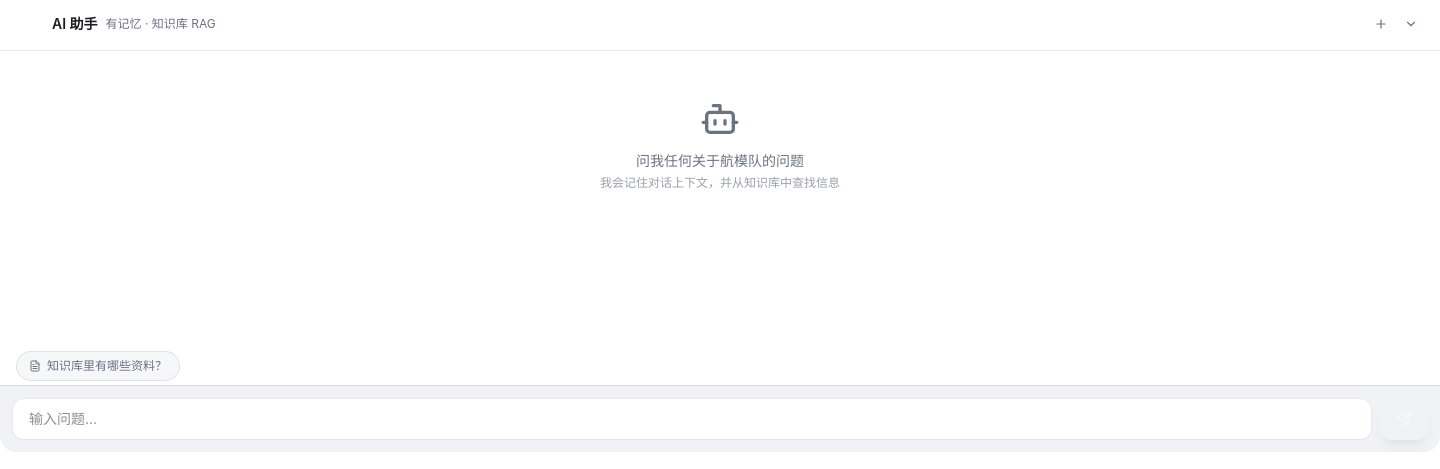
聊天页建议问题 › 点 chip 的行为不变：填进输入框（不直接发送）
Click the button with test id "ai-suggestion" at (98, 366), box [16,351,180,381]
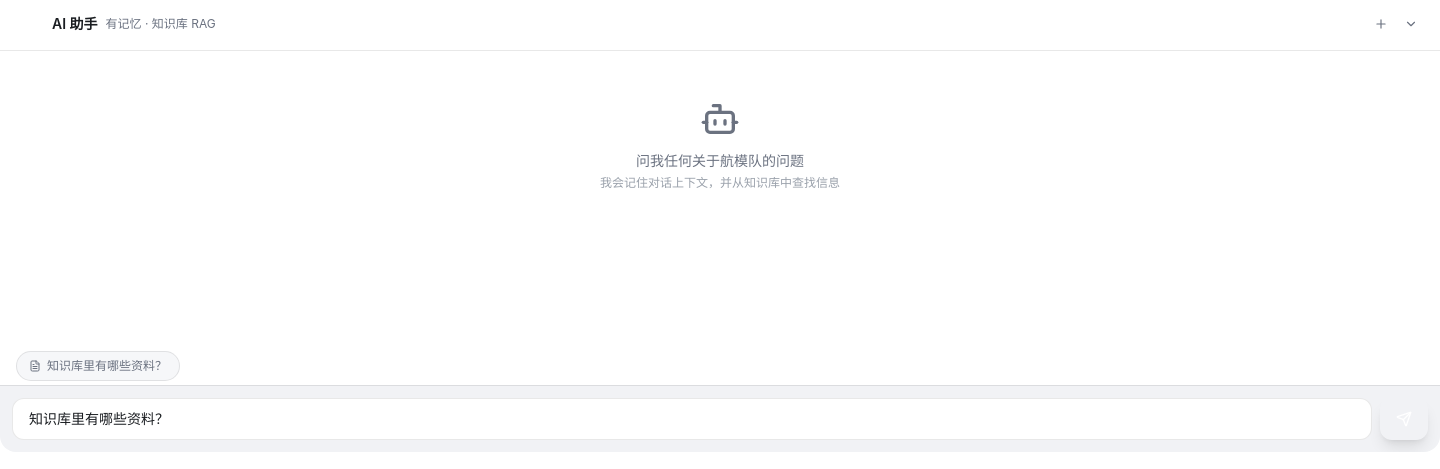
Expected: the text "问我任何关于航模队的问题" is shown, [636,151,804,171]
Expected: the field with placeholder "输入问题..." holds "知识库里有哪些资料？", [12,398,1372,440]
